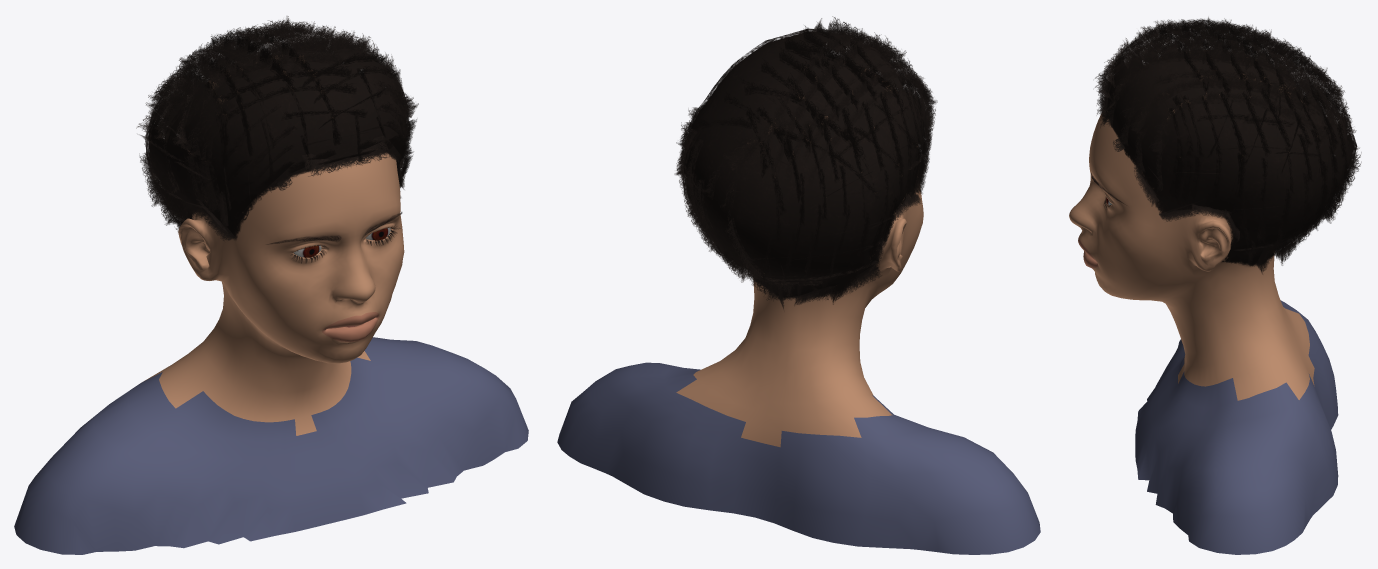
The model's file is woman-09.glb.
3 views of the same model, side by side, from view 1: azimuth 30°, elevation 25°; view 2: azimuth 150°, elevation 25°; view 3: azimuth 270°, elevation 25° (orthographic). The views are drawn at different scales.
Visible parts, largest first — view 1: mpfb-face, mpfb-face.afro01; view 2: mpfb-face, mpfb-face.afro01; view 3: mpfb-face, mpfb-face.afro01.
Part boxes in pixels (x1,y1,x2,y2): mpfb-face: [14, 81, 528, 554]; mpfb-face.afro01: [136, 16, 418, 240]; mpfb-face: [557, 69, 1040, 554]; mpfb-face.afro01: [674, 16, 937, 309]; mpfb-face: [1069, 74, 1338, 554]; mpfb-face.afro01: [1095, 17, 1361, 274].
Size of the model in its own units: 0.4005 by 0.3554 by 0.228.
Materials: 9 (6 with a texture image).
